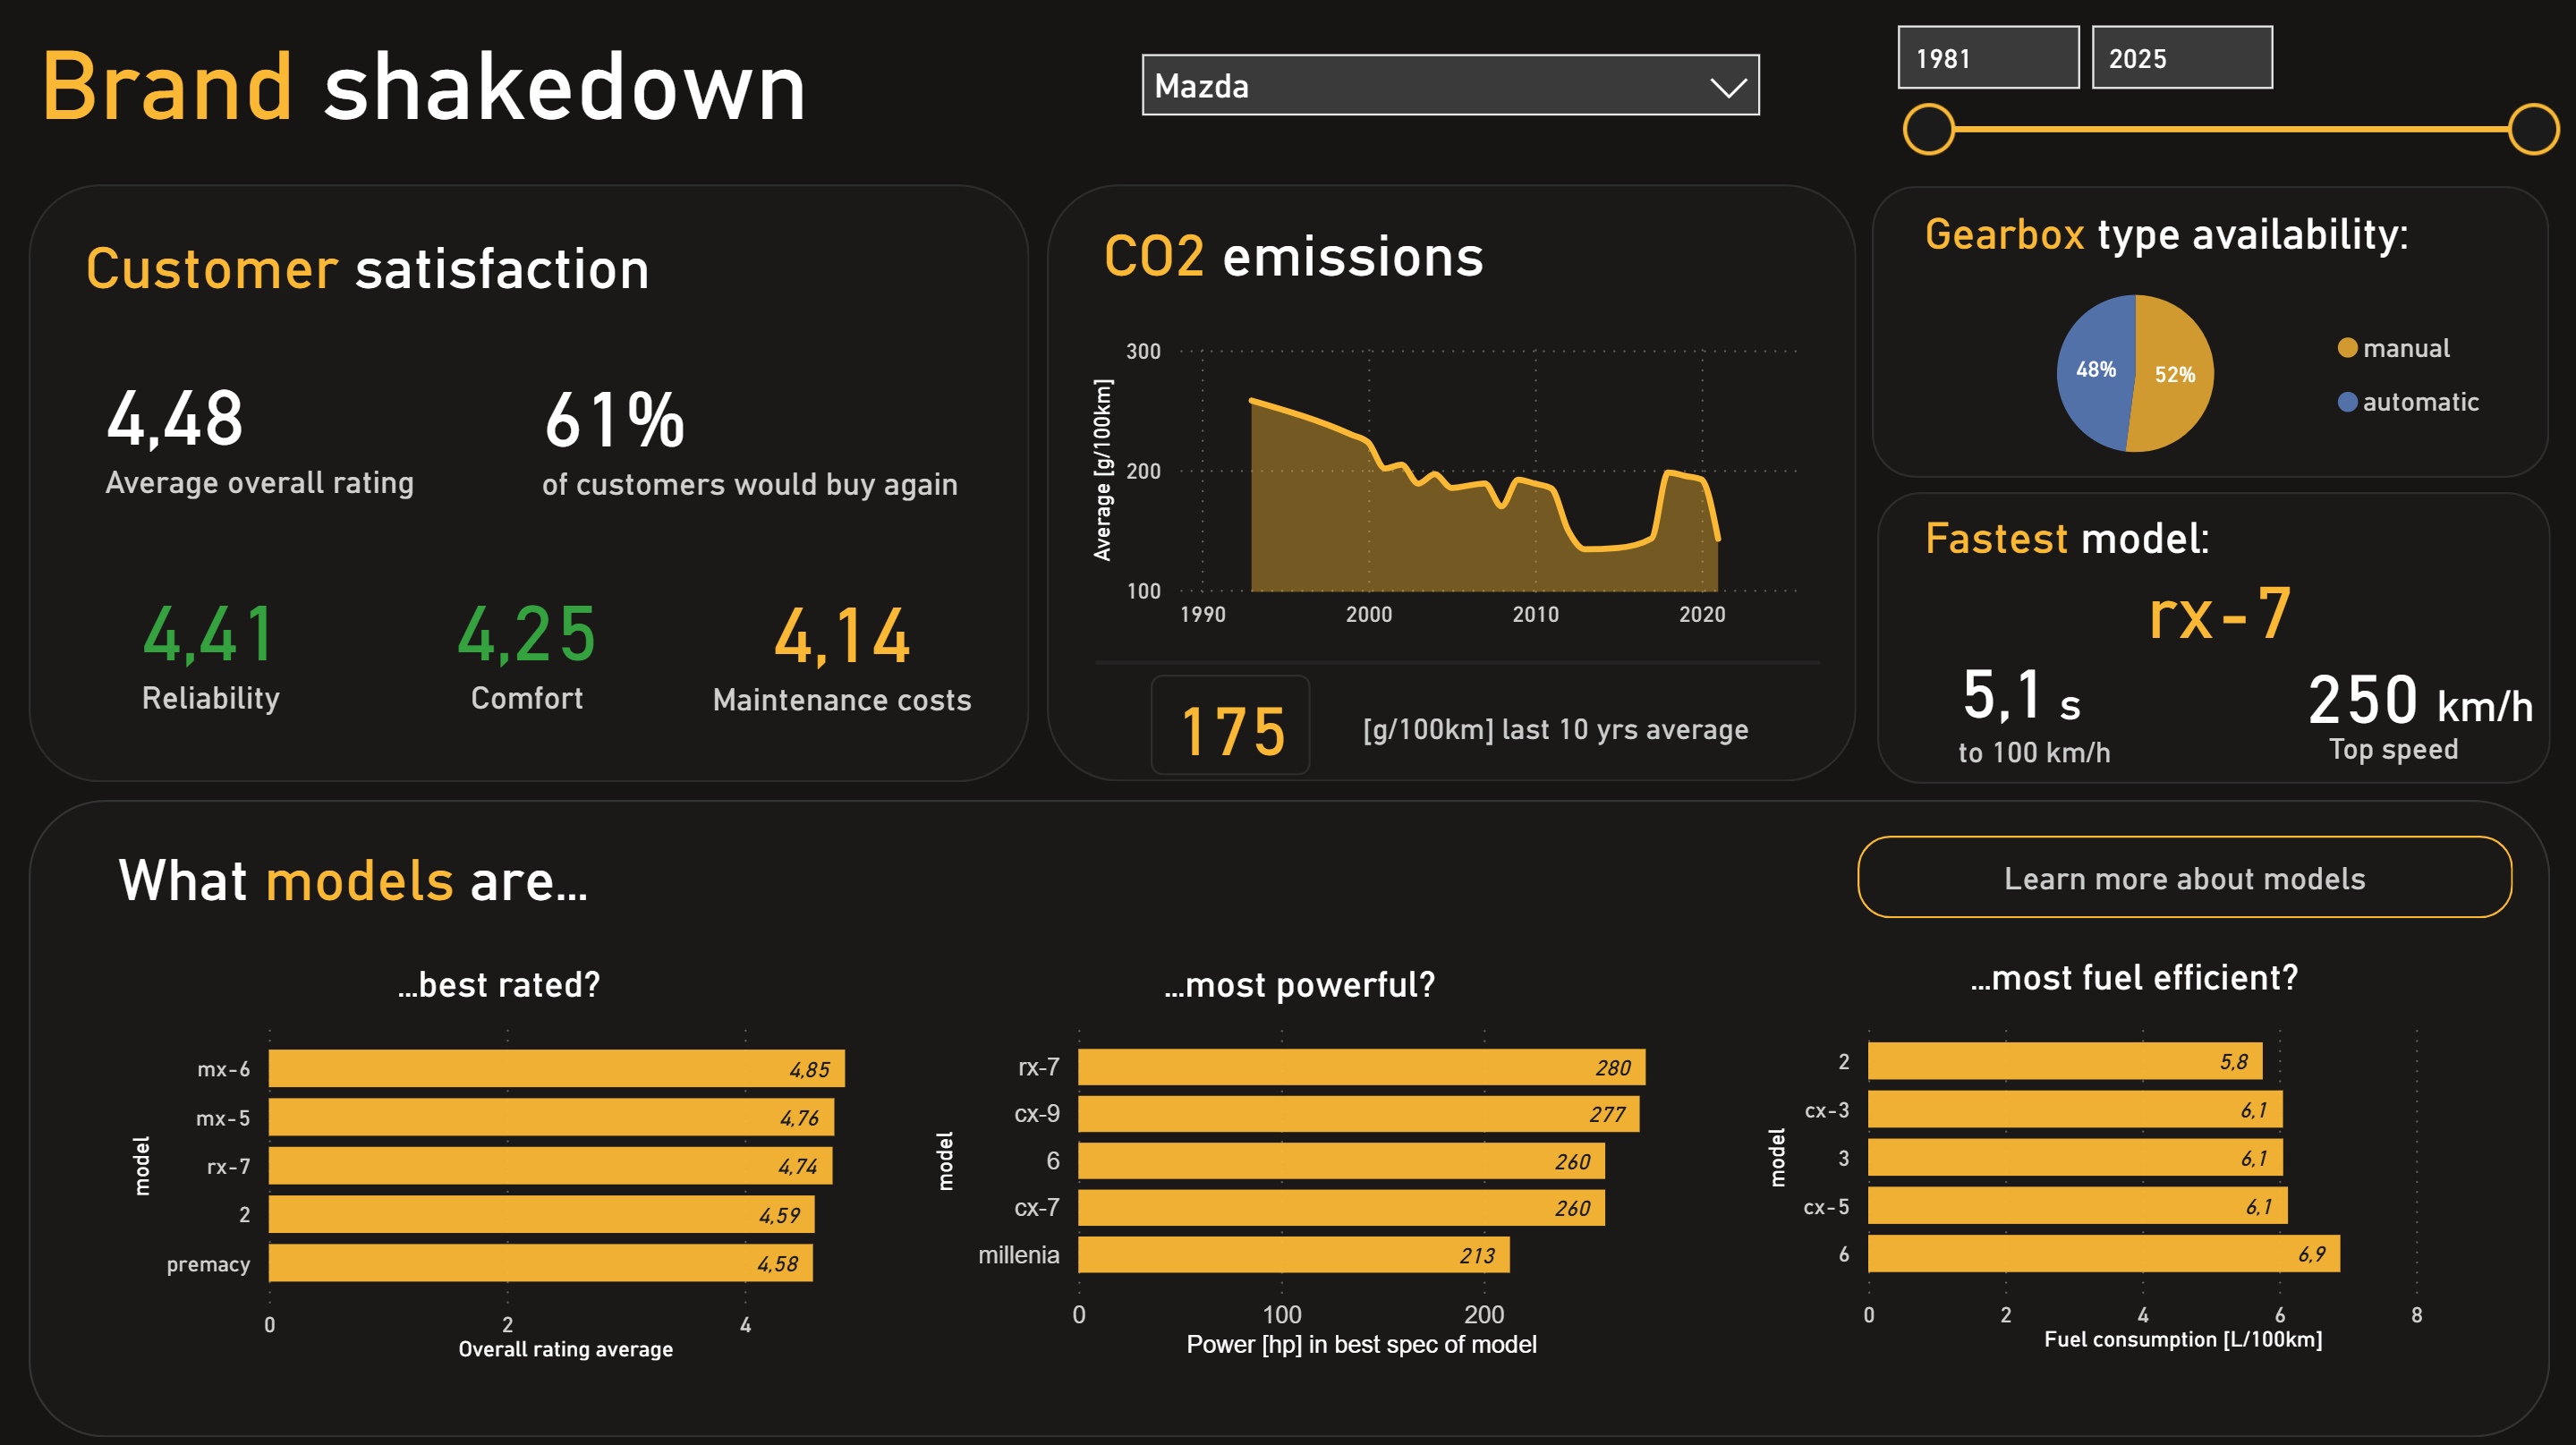

This screenshot's page, from the dashboard's own definition file:
{"tool":"powerbi","page":{"name":"Brand","canvas":[1280,720],"ordinal":0},"visuals":[{"type":"shape","box":[929.5,92.3,336.5,144.9],"z":0},{"type":"shape","box":[932.1,244.9,334.6,144.9],"z":1000},{"type":"shape","box":[520,91.7,402.2,296.7],"z":2000},{"type":"shape","box":[571.8,335.3,79.5,50],"z":3000},{"type":"shape","box":[14.1,397.4,1252.6,316.7],"z":4000},{"type":"shape","box":[14,91.8,497.2,297.1],"z":5000},{"type":"pieChart","title":"Gearbox type availability","fields":{"Y":["car_tech_specs.ManualGearboxAvailable","car_tech_specs.AutoGearboxAvailable"]},"box":[956.4,129.5,289.7,111.5],"z":6000},{"type":"slicer","fields":{"Values":["car_tech_specs.production_start_year"]},"box":[929.5,2.6,350,100],"z":7000},{"type":"slicer","fields":{"Values":["car_tech_specs.brand"]},"box":[557.7,16.7,326.9,52.6],"z":8000},{"type":"cardVisual","fields":{"Data":["Avg(car_ratings.overall_rating)"]},"box":[23.1,141,216.7,150],"z":9000},{"type":"cardVisual","fields":{"Data":["Avg(car_ratings.buy_again)"]},"box":[239.7,142.3,280.8,150],"z":10000},{"type":"barChart","title":"...most fuel efficient?","fields":{"Category":["car_tech_specs.model"],"Y":["Avg(car_tech_specs.avg_fuel_consumption_combined)"]},"box":[872,474.3,377.4,201.4],"z":11000},{"type":"textbox","box":[14.1,9,447.4,83.3],"z":12000},{"type":"barChart","title":"...most powerful?","fields":{"Category":["car_tech_specs.model"],"Y":["Max(car_tech_specs.max_hp)"]},"box":[459,478.1,374.8,201.4],"z":13000},{"type":"textbox","box":[53.2,414.7,261.5,50],"z":14000},{"type":"textbox","box":[37.1,111,312.5,50],"z":15000},{"type":"cardVisual","fields":{"Data":["Avg(car_ratings.reliability_major_repairs)"]},"box":[37.2,259,135.9,130.8],"z":16000},{"type":"cardVisual","fields":{"Data":["car_ratings.Comfort"]},"box":[179.5,259,165.4,130.8],"z":17000},{"type":"cardVisual","fields":{"Data":["Avg(car_ratings.maintenance_costs)"]},"box":[324.7,258.4,188.1,131.2],"z":18000},{"type":"textbox","box":[542.9,104.5,233.3,50],"z":19000},{"type":"areaChart","title":"Trend","fields":{"Category":["car_tech_specs.production_start_year.Variation.Date Hierarchy.Year"],"Y":["Avg(car_tech_specs.co2_emissions_g_per_km)","select"]},"box":[537.2,160.3,366.7,159],"z":20000},{"type":"card","fields":{"Values":["Avg(car_tech_specs.co2_emissions_g_per_km)"]},"box":[565.6,339.6,93.4,41.9],"z":21000},{"type":"barChart","title":"...best rated?","fields":{"Category":["car_tech_specs.model"],"Y":["Avg(car_ratings.overall_rating)"]},"box":[59.9,478.1,377.4,202.7],"z":22000},{"type":"textbox","box":[671.8,348.7,211.5,35.9],"z":23000},{"type":"card","fields":{"Values":["Min(car_tech_specs.acceleration_0_100)"]},"box":[936.3,304.4,117.7,75.8],"z":24000},{"type":"textbox","box":[951.3,249.4,165.4,51.3],"z":25000},{"type":"textbox","box":[945.8,359.9,129.9,51.4],"z":26000},{"type":"cardVisual","fields":{"Data":["Max(car_tech_specs.model)"]},"box":[932.7,260.3,341,85.9],"z":27000},{"type":"cardVisual","fields":{"Data":["Max(car_tech_specs.top_speed)"]},"box":[1116.3,295,165.1,101.5],"z":28000},{"type":"actionButton","box":[923.1,415.4,325.6,41],"z":29000},{"type":"textbox","box":[1124.4,358.3,129.5,51.3],"z":30000},{"type":"shape","box":[543.6,314.1,360.3,30.8],"z":31000},{"type":"textbox","box":[951.3,98.7,292.3,51.3],"z":32000},{"type":"textbox","box":[1204.9,333.5,73.1,40.6],"z":33000},{"type":"textbox","box":[1017.5,332.9,39.2,40.6],"z":34000}]}

Visuals, with their boxes in screenshot pixels (x1, y1, x2, y2), scaled from the page's 1280x720 canvas onto the 2576x1445 screenshot:
shape: {"left": 1871, "top": 185, "right": 2548, "bottom": 476}
shape: {"left": 1875, "top": 491, "right": 2549, "bottom": 782}
shape: {"left": 1047, "top": 184, "right": 1856, "bottom": 779}
shape: {"left": 1151, "top": 673, "right": 1311, "bottom": 773}
shape: {"left": 29, "top": 797, "right": 2549, "bottom": 1433}
shape: {"left": 28, "top": 184, "right": 1029, "bottom": 780}
"Gearbox type availability" pieChart: {"left": 1925, "top": 259, "right": 2508, "bottom": 484}
slicer - car_tech_specs.production_start_year: {"left": 1871, "top": 5, "right": 2575, "bottom": 206}
slicer - car_tech_specs.brand: {"left": 1122, "top": 33, "right": 1781, "bottom": 139}
cardVisual - Avg(car_ratings.overall_rating): {"left": 47, "top": 283, "right": 482, "bottom": 584}
cardVisual - Avg(car_ratings.buy_again): {"left": 482, "top": 285, "right": 1048, "bottom": 587}
"...most fuel efficient?" barChart: {"left": 1755, "top": 952, "right": 2514, "bottom": 1356}
textbox: {"left": 29, "top": 18, "right": 929, "bottom": 185}
"...most powerful?" barChart: {"left": 923, "top": 959, "right": 1678, "bottom": 1364}
textbox: {"left": 107, "top": 832, "right": 633, "bottom": 932}
textbox: {"left": 74, "top": 223, "right": 703, "bottom": 323}
cardVisual - Avg(car_ratings.reliability_major_repairs): {"left": 75, "top": 520, "right": 348, "bottom": 782}
cardVisual - car_ratings.Comfort: {"left": 361, "top": 520, "right": 694, "bottom": 782}
cardVisual - Avg(car_ratings.maintenance_costs): {"left": 653, "top": 519, "right": 1032, "bottom": 782}
textbox: {"left": 1092, "top": 209, "right": 1562, "bottom": 310}
"Trend" areaChart: {"left": 1081, "top": 322, "right": 1819, "bottom": 641}
card - Avg(car_tech_specs.co2_emissions_g_per_km): {"left": 1138, "top": 682, "right": 1326, "bottom": 766}
"...best rated?" barChart: {"left": 121, "top": 959, "right": 880, "bottom": 1366}
textbox: {"left": 1352, "top": 700, "right": 1778, "bottom": 772}
card - Min(car_tech_specs.acceleration_0_100): {"left": 1884, "top": 611, "right": 2121, "bottom": 763}
textbox: {"left": 1915, "top": 500, "right": 2248, "bottom": 603}
textbox: {"left": 1903, "top": 722, "right": 2164, "bottom": 826}
cardVisual - Max(car_tech_specs.model): {"left": 1877, "top": 523, "right": 2563, "bottom": 695}
cardVisual - Max(car_tech_specs.top_speed): {"left": 2247, "top": 592, "right": 2575, "bottom": 795}
actionButton: {"left": 1858, "top": 834, "right": 2513, "bottom": 916}
textbox: {"left": 2263, "top": 719, "right": 2523, "bottom": 822}
shape: {"left": 1094, "top": 631, "right": 1819, "bottom": 693}
textbox: {"left": 1915, "top": 198, "right": 2503, "bottom": 301}
textbox: {"left": 2425, "top": 669, "right": 2572, "bottom": 751}
textbox: {"left": 2048, "top": 668, "right": 2127, "bottom": 750}
